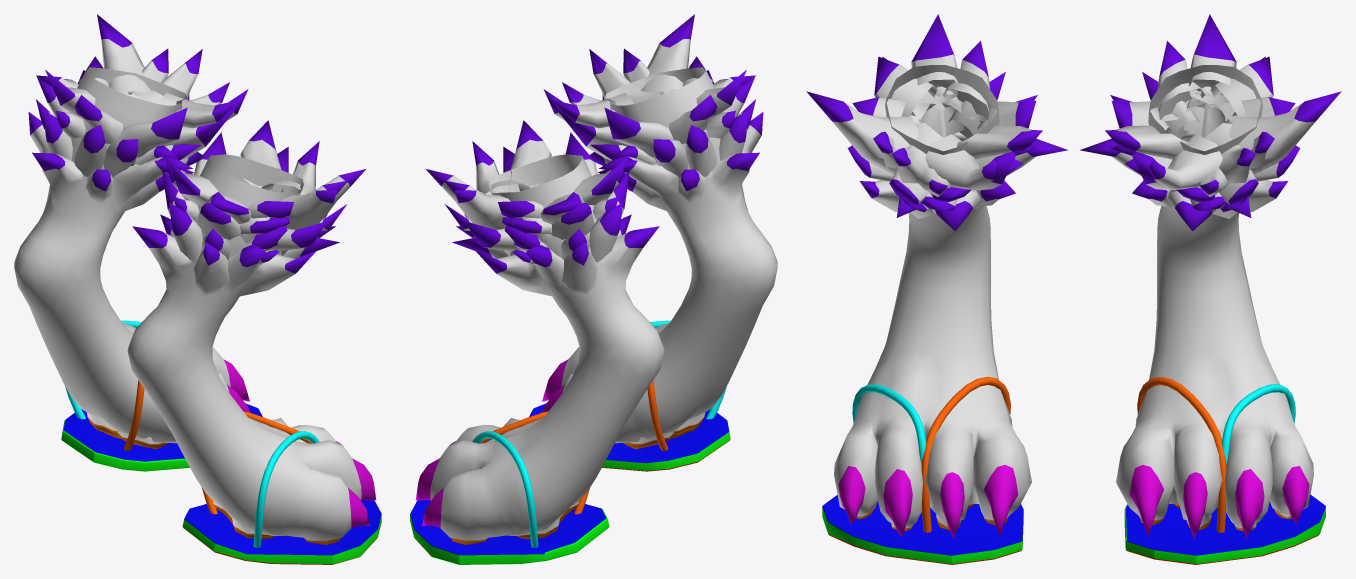
The model's file is SM_BeachSandals.fbx.
The picture shows the model from 3 angles, left to right: view 1: azimuth 30°, elevation 25°; view 2: azimuth 150°, elevation 25°; view 3: azimuth 270°, elevation 25°; orthographic projection. The views are drawn at different scales.
Visible parts, largest first — view 1: Right_lowerleg_mesh, Right_lowerleg_fur_mesh.001, Right_lowerleg_fur_mesh, Sandals, Right_Beans_mesh; view 2: Right_lowerleg_mesh, Right_lowerleg_fur_mesh, Right_lowerleg_fur_mesh.001, Sandals, Right_Beans_mesh; view 3: Right_lowerleg_mesh, Right_lowerleg_fur_mesh.001, Right_lowerleg_fur_mesh, Sandals, Right_Beans_mesh.
Boxes of the visible parts, x1,y1,x2,y2 form: Right_lowerleg_mesh: (14,67,376,540); Right_lowerleg_fur_mesh.001: (28,14,248,215); Right_lowerleg_fur_mesh: (132,120,365,299); Sandals: (61,320,381,564); Right_Beans_mesh: (87,412,340,544); Right_lowerleg_mesh: (416,67,777,540); Right_lowerleg_fur_mesh: (543,14,763,215); Right_lowerleg_fur_mesh.001: (426,120,659,299); Sandals: (410,320,730,564); Right_Beans_mesh: (451,412,704,544); Right_lowerleg_mesh: (834,65,1313,539); Right_lowerleg_fur_mesh.001: (1080,14,1341,231); Right_lowerleg_fur_mesh: (806,14,1067,231); Sandals: (822,376,1325,564); Right_Beans_mesh: (856,504,1291,531).
Bounding box in the file's own units: 25.49 × 44.47 × 40.6.
